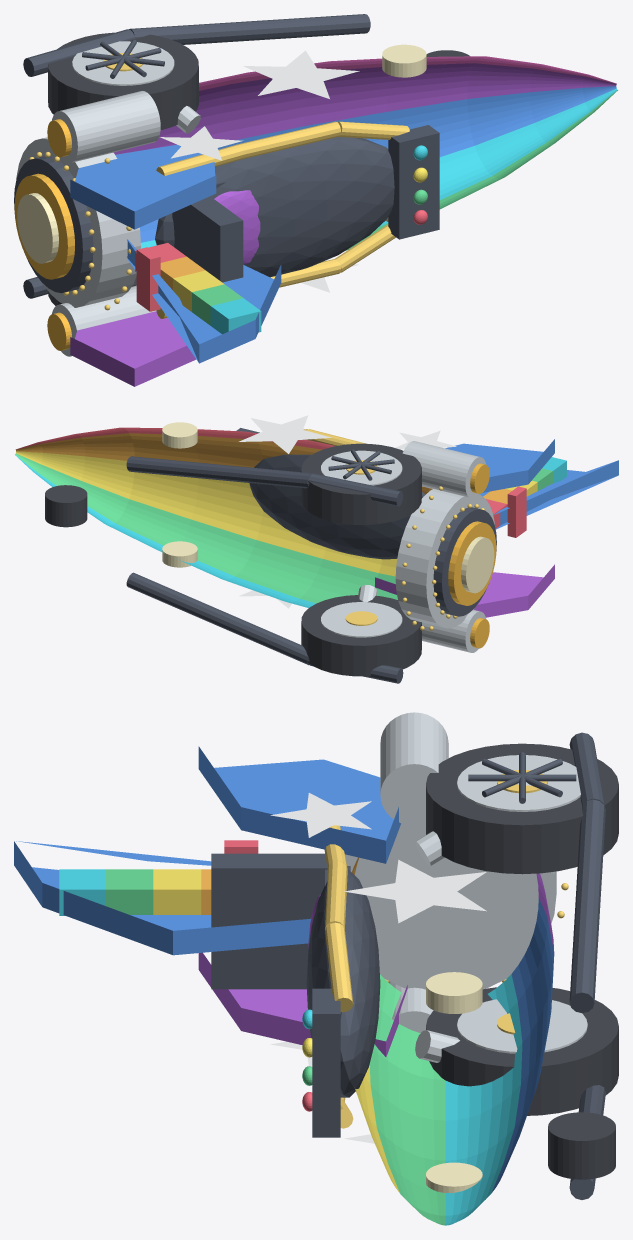
File: rainbow.glb
3 renders of one model, top to bottom at view 1: azimuth 30°, elevation 25°; view 2: azimuth 150°, elevation 25°; view 3: azimuth 270°, elevation 25°, orthographic. The views are drawn at different scales.
Parts seen in each view (by area): view 1: Cockpit_Recess, Fuselage_Rainbow_Band_07, Fuselage_Rainbow_Band_06, Side_Fin_1, Side_Fin_-1, Rear_Tire_1, Side_Thruster_1, Fuselage_Rainbow_Band_05, Engine_Outer, Tall_Rainbow_Tail, Control_Panel, Seat_Back (+25 smaller); view 2: Fuselage_Rainbow_Band_04, Fuselage_Rainbow_Band_03, Cockpit_Recess, Rear_Tire_-1, Engine_Outer, Fuselage_Rainbow_Band_02, Rear_Tire_1, Lower_Chassis_-1_01, Lower_Chassis_1_01, Side_Thruster_1, Side_Fin_1, Side_Fin_-1 (+22 smaller); view 3: Engine_Outer, Rear_Tire_1, Side_Fin_1, Seat_Back, Fuselage_Rainbow_Band_04, Rear_Tire_-1, Tall_Rainbow_Tail, Fuselage_Rainbow_Band_05, Cockpit_Recess, Side_Thruster_1, Fuselage_Rainbow_Band_06, Lower_Chassis_1_01 (+19 smaller).
Part boxes in pixels (left/top/right/bottom): Cockpit_Recess: left=155, top=137, right=394, bottom=277; Fuselage_Rainbow_Band_07: left=113, top=63, right=616, bottom=154; Fuselage_Rainbow_Band_06: left=140, top=86, right=616, bottom=242; Side_Fin_1: left=70, top=144, right=216, bottom=229; Side_Fin_-1: left=70, top=311, right=195, bottom=386; Rear_Tire_1: left=48, top=32, right=198, bottom=130; Side_Thruster_1: left=52, top=91, right=160, bottom=162; Fuselage_Rainbow_Band_05: left=140, top=88, right=617, bottom=248; Engine_Outer: left=16, top=137, right=140, bottom=307; Tall_Rainbow_Tail: left=127, top=239, right=281, bottom=363; Control_Panel: left=388, top=125, right=439, bottom=239; Seat_Back: left=172, top=196, right=243, bottom=282; Fuselage_Rainbow_Band_04: left=15, top=453, right=397, bottom=603; Fuselage_Rainbow_Band_03: left=16, top=451, right=397, bottom=576; Cockpit_Recess: left=249, top=454, right=425, bottom=559; Rear_Tire_-1: left=301, top=595, right=421, bottom=676; Engine_Outer: left=395, top=489, right=494, bottom=628; Fuselage_Rainbow_Band_02: left=16, top=433, right=432, bottom=494; Rear_Tire_1: left=301, top=443, right=421, bottom=525; Lower_Chassis_-1_01: left=126, top=572, right=308, bottom=665; Lower_Chassis_1_01: left=126, top=456, right=312, bottom=488; Side_Thruster_1: left=402, top=441, right=485, bottom=498; Side_Fin_1: left=445, top=439, right=554, bottom=492; Side_Fin_-1: left=375, top=564, right=554, bottom=617; Engine_Outer: left=345, top=823, right=556, bottom=989; Rear_Tire_1: left=426, top=743, right=618, bottom=874; Side_Fin_1: left=198, top=746, right=400, bottom=863; Seat_Back: left=211, top=853, right=327, bottom=989; Fuselage_Rainbow_Band_04: left=369, top=974, right=445, bottom=1225; Rear_Tire_-1: left=426, top=987, right=618, bottom=1115; Tall_Rainbow_Tail: left=14, top=841, right=310, bottom=955; Fuselage_Rainbow_Band_05: left=445, top=974, right=522, bottom=1225; Cockpit_Recess: left=306, top=870, right=380, bottom=1097; Side_Thruster_1: left=380, top=712, right=448, bottom=825; Fuselage_Rainbow_Band_06: left=491, top=898, right=554, bottom=1193; Lower_Chassis_1_01: left=569, top=799, right=605, bottom=1013.
Bounding box in the file's own units: 3.09 × 1.2 × 2.13.
